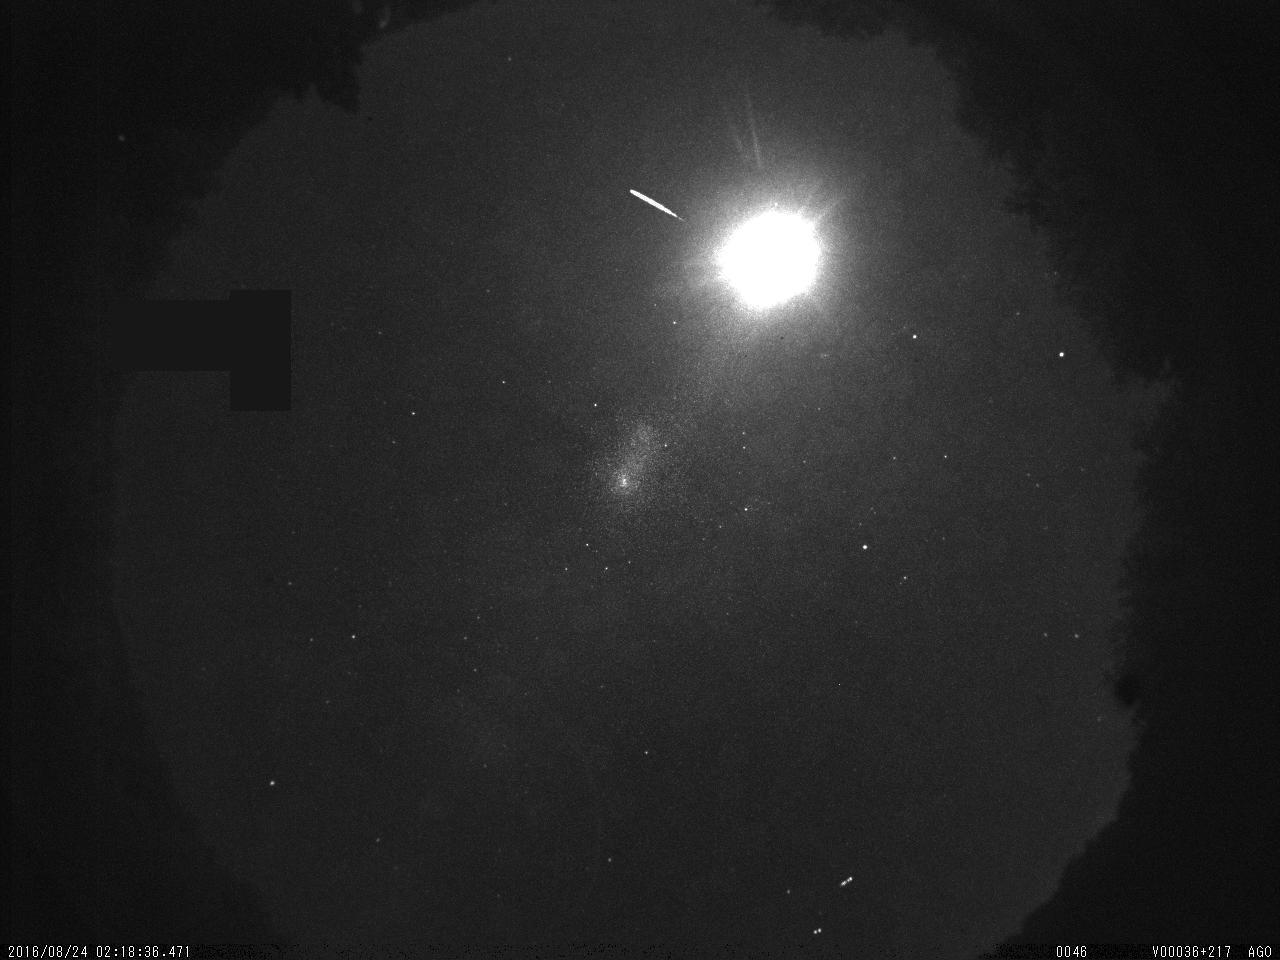meteor: (618, 178, 692, 235)
